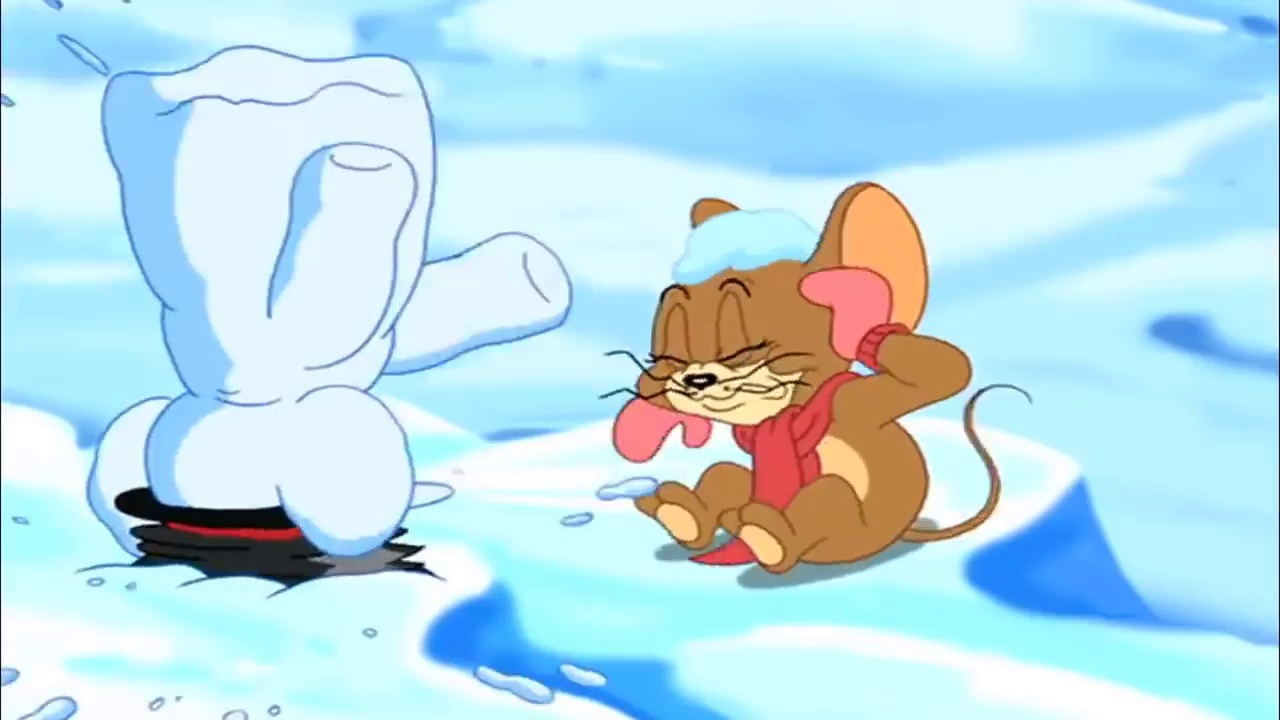face: (655, 280, 818, 425)
